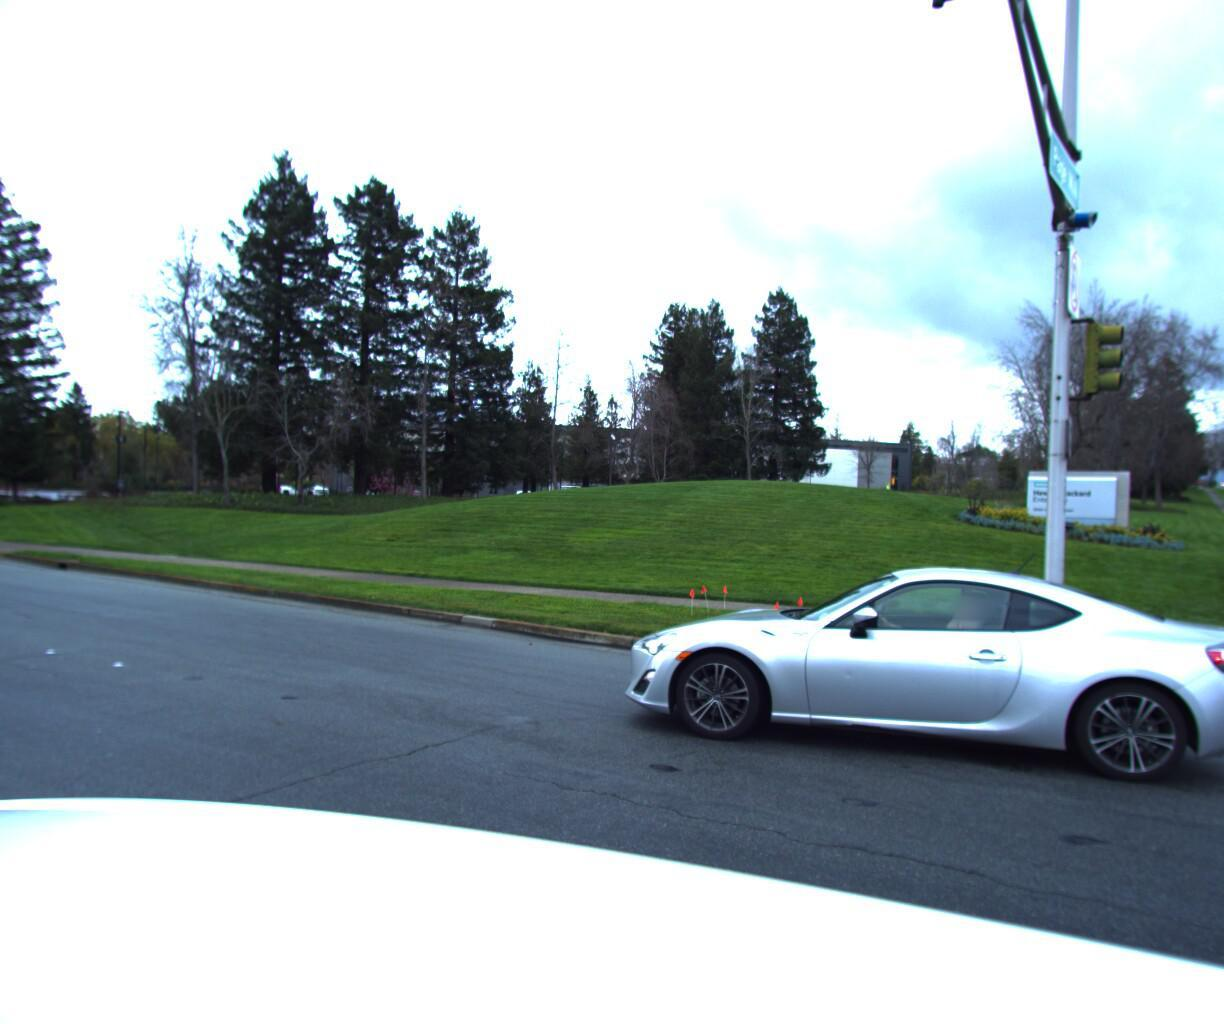car: (601, 547, 1224, 821)
